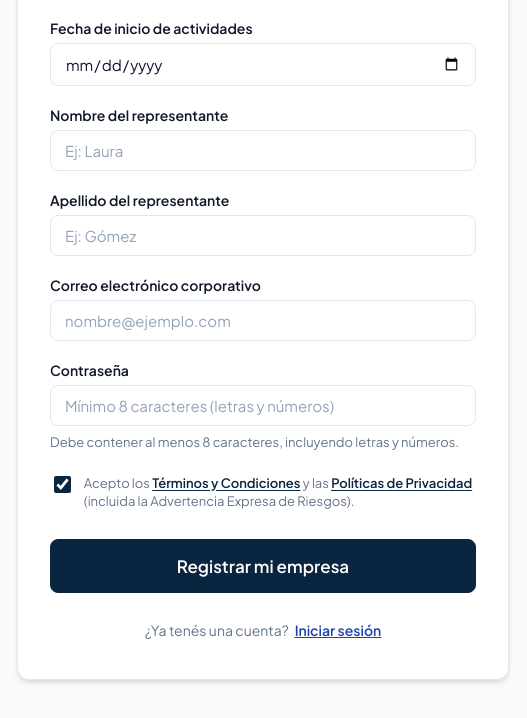
Test: Dedicated User Registration Page with Role Selection (Issue #27) › displays inline accessible error messages when required fields are missing or empty
This screenshot has width=527, height=718.
(page scrolled)
Click the button with test id "submit-register-btn": (263, 566) [50,539,476,593]
(page scrolled)
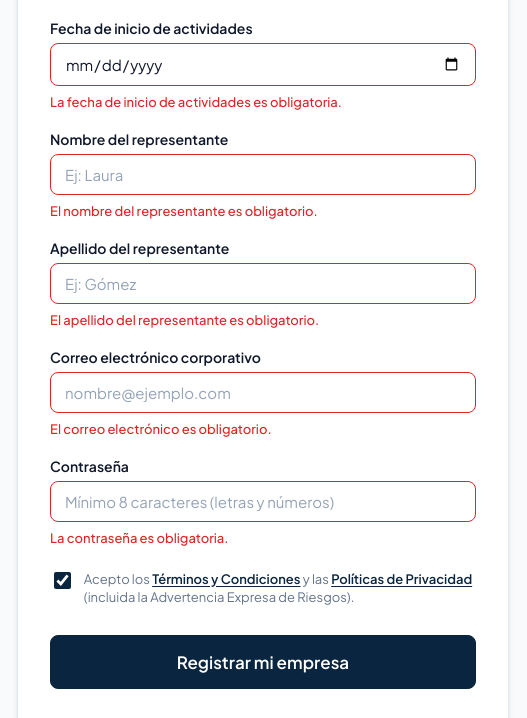
Expected: the text "La fecha de inicio de actividades es obligatoria." is shown, [50,94,342,110]
Expected: the text "El nombre del representante es obligatorio." is shown, [50,203,318,219]
Expected: the text "El apellido del representante es obligatorio." is shown, [50,312,319,328]
